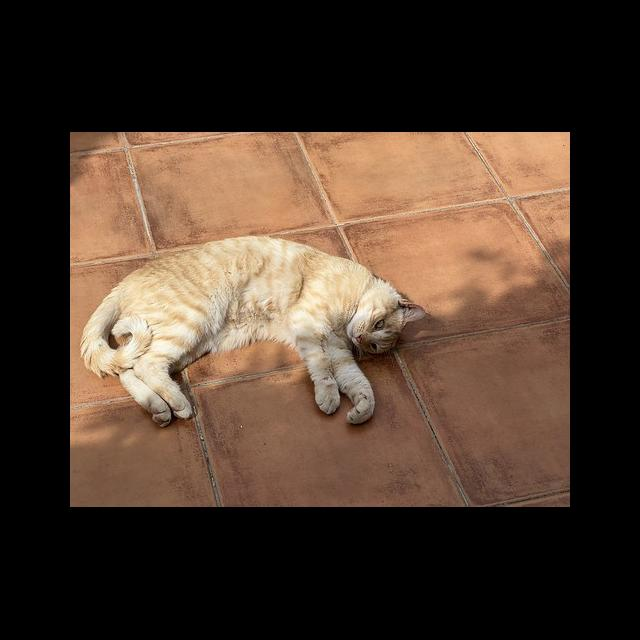animals: (82, 236, 429, 428)
